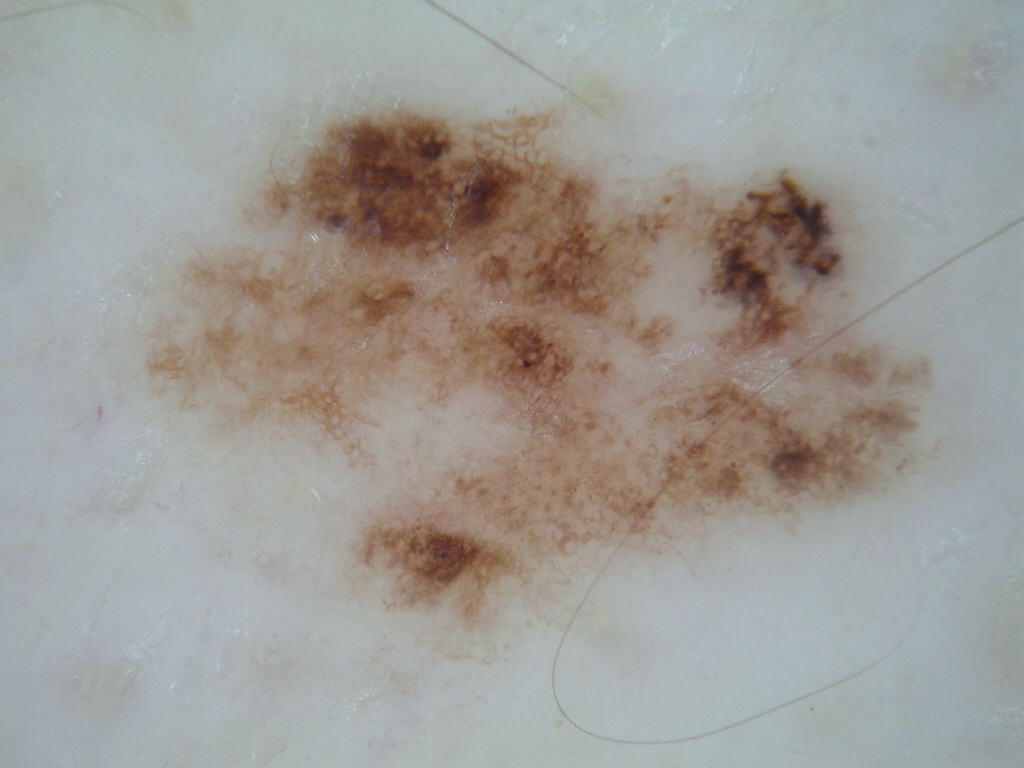Detected Lesion: (121, 89, 946, 665)
